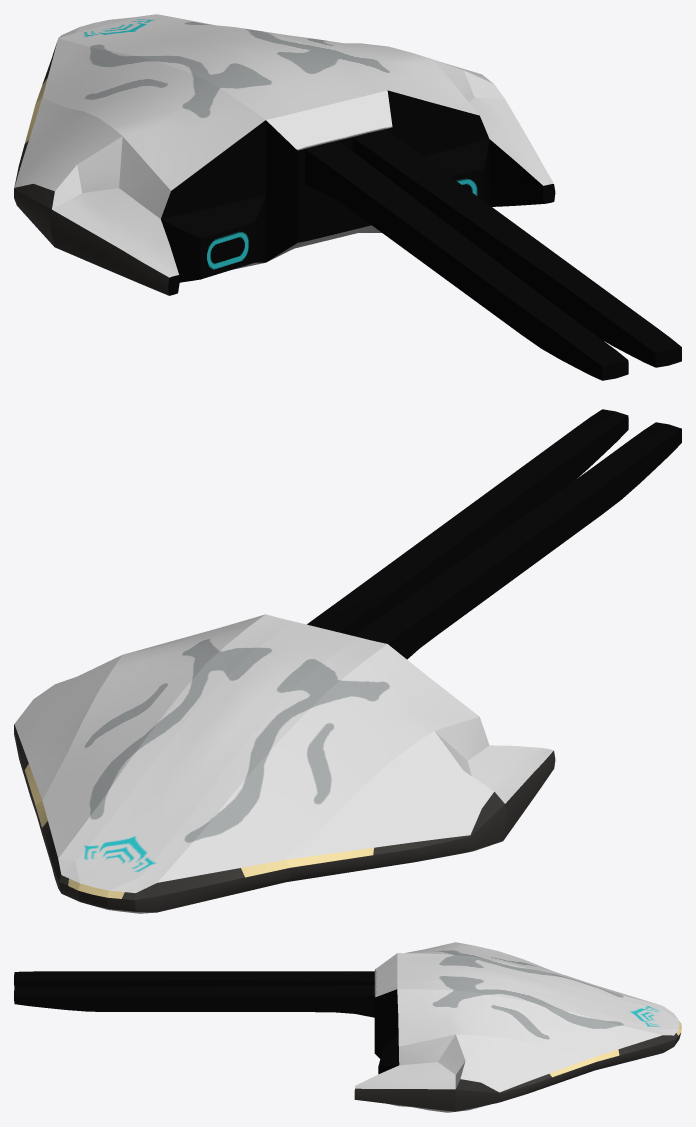
Rendered from OffbrandLiset.fbx.
The picture shows the model from 3 angles, top to bottom: view 1: azimuth 30°, elevation 25°; view 2: azimuth 150°, elevation 25°; view 3: azimuth 270°, elevation 25°; orthographic projection. The views are drawn at different scales.
Parts seen in each view (by area): view 1: LisetClone; view 2: LisetClone; view 3: LisetClone.
Boxes of the visible parts, <box> form: LisetClone: <box>14,14,681,380</box>; LisetClone: <box>14,409,681,913</box>; LisetClone: <box>14,942,681,1112</box>.
Bounding box in the file's own units: 75.95 × 22.86 × 159.
Materials: 2 (1 with a texture image).
